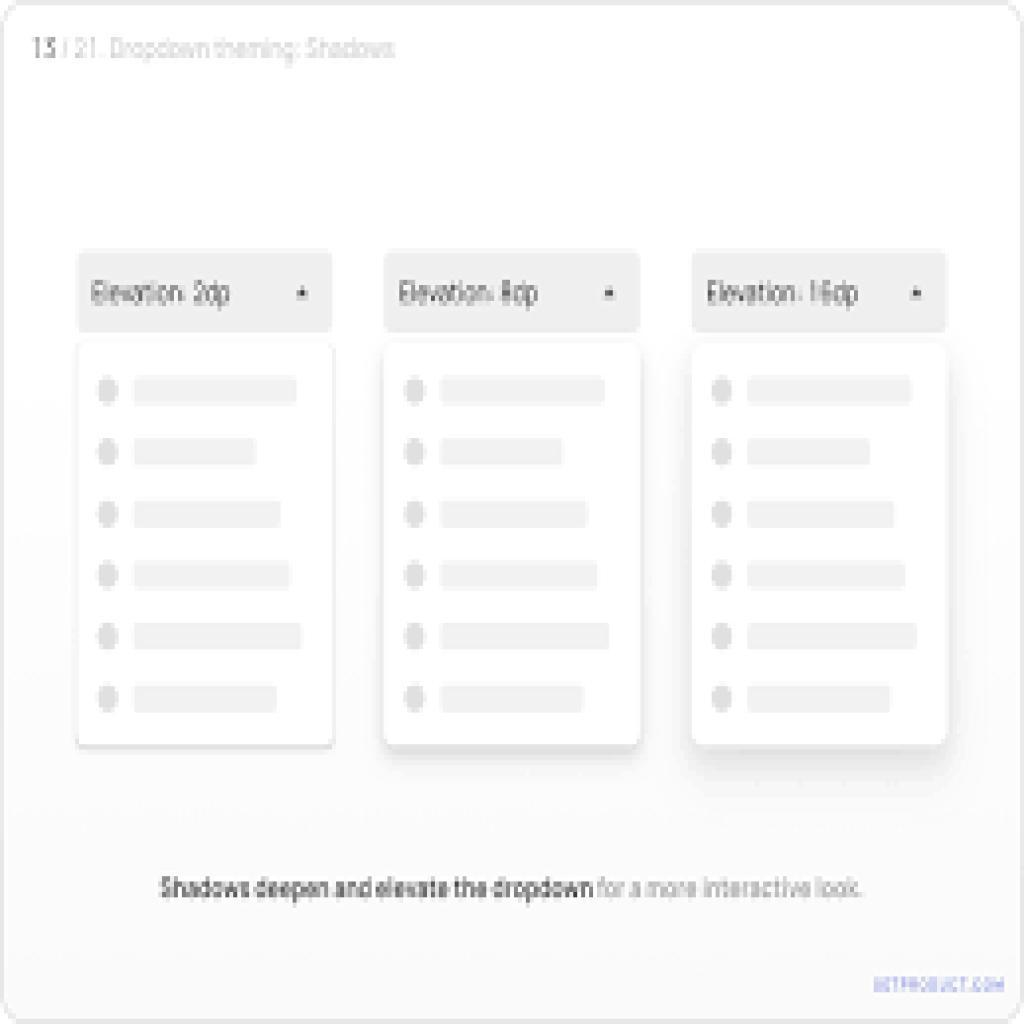dropdown: (383, 253, 645, 335), (692, 256, 954, 337), (74, 253, 330, 332)
